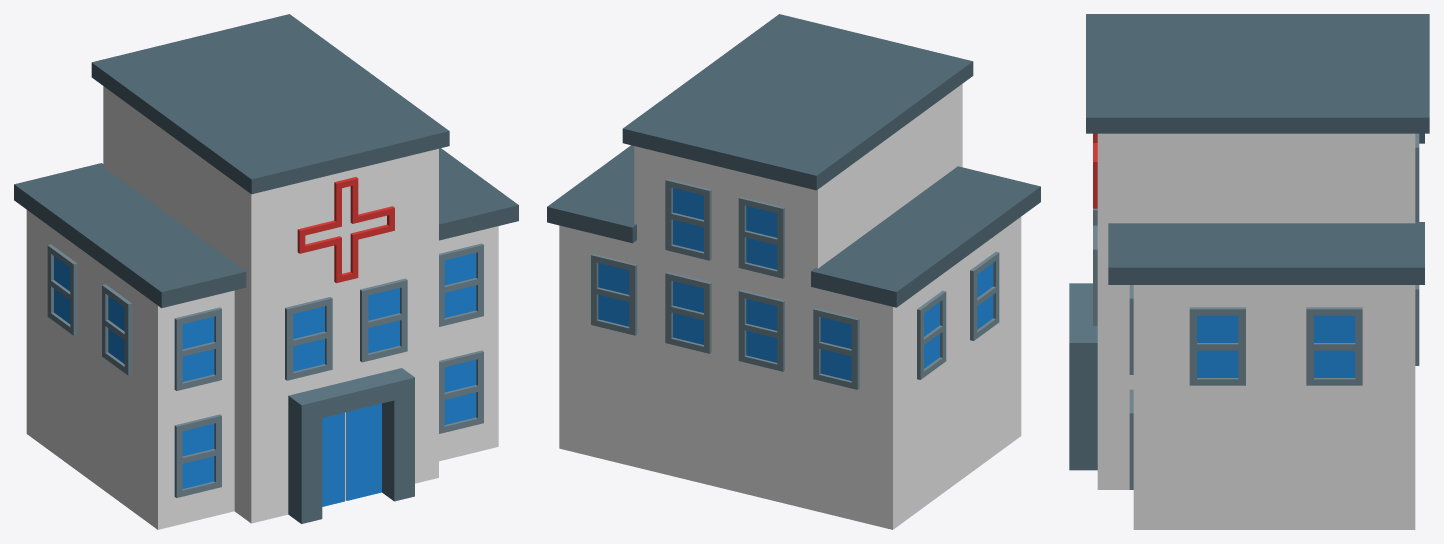
The model's file is hospital.gltf.
3 renders of one model, left to right at view 1: azimuth 30°, elevation 25°; view 2: azimuth 150°, elevation 25°; view 3: azimuth 270°, elevation 25°, orthographic. The views are drawn at different scales.
Visible parts, largest first — view 1: Cube.488; view 2: Cube.488; view 3: Cube.488.
Boxes of the visible parts, box(x1,y1,x2,y2) form: Cube.488: box(14, 14, 518, 529); Cube.488: box(547, 14, 1040, 529); Cube.488: box(1069, 14, 1429, 529).
Size of the model in its own units: 2.02 by 1.89 by 1.65.
1 material, 1 textured.
